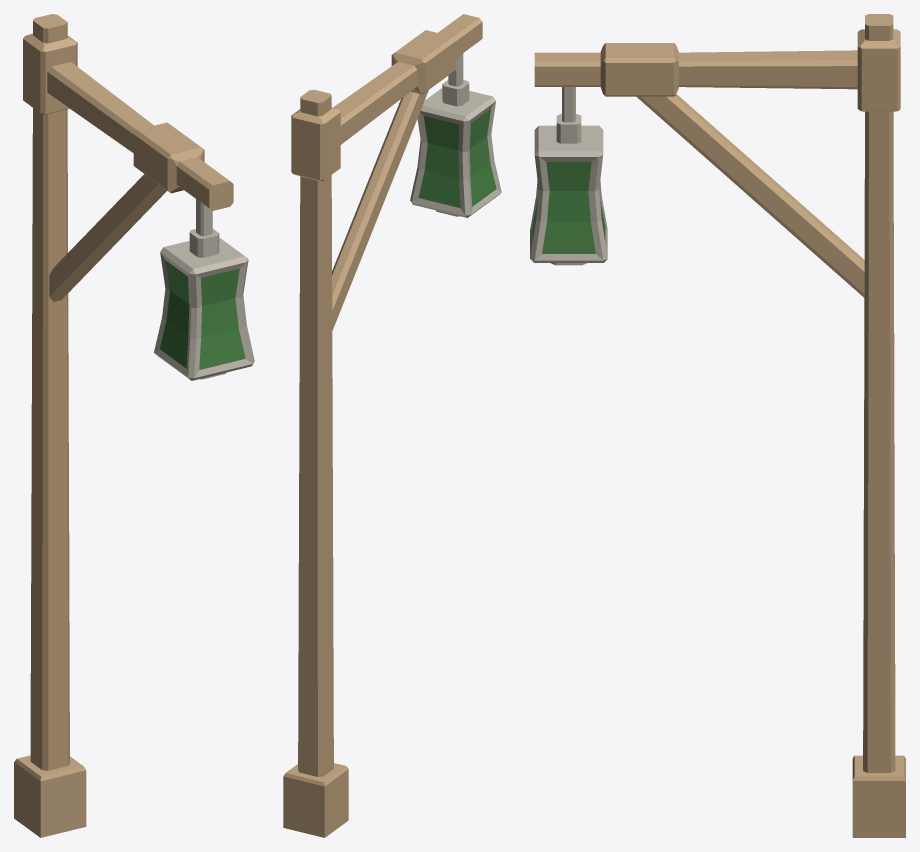
Rendered from streetlight_a.gltf.
3 renders of one model, left to right at view 1: azimuth 30°, elevation 25°; view 2: azimuth 150°, elevation 25°; view 3: azimuth 270°, elevation 25°, orthographic. The views are drawn at different scales.
Visible parts, largest first — view 1: streetlight_a001; view 2: streetlight_a001; view 3: streetlight_a001.
Boxes of the visible parts, x1,y1,x2,y2 form: streetlight_a001: [14, 14, 254, 837]; streetlight_a001: [283, 14, 501, 837]; streetlight_a001: [530, 14, 905, 837].
Size of the model in its own units: 0.1676 by 1.92 by 0.8104.
Materials: 1 (1 with a texture image).
